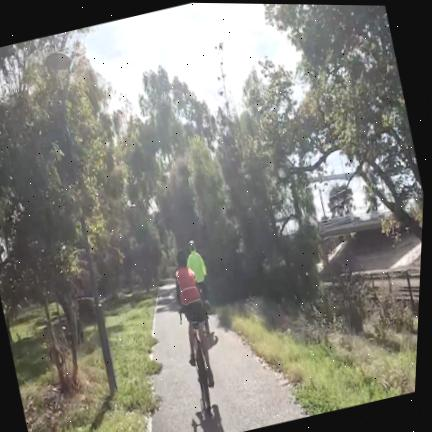Bike_Lane: (151, 279, 308, 432)
